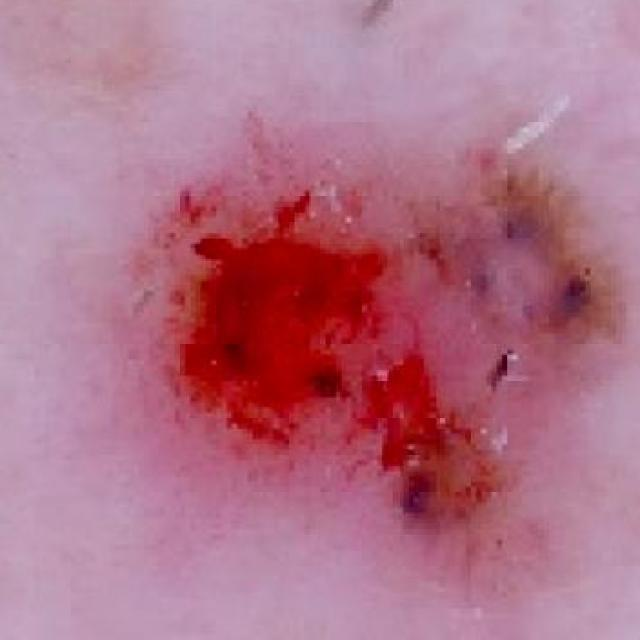BCC: (112, 136, 640, 534)
